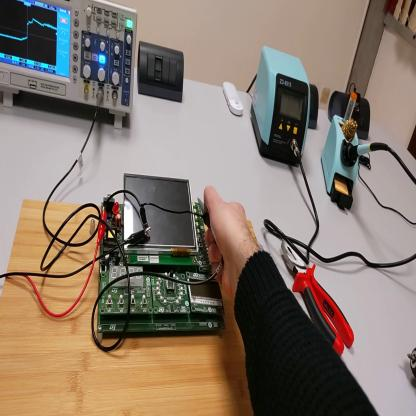electric screwdriver: (407, 343, 416, 382)
hand: (203, 185, 255, 296)
low voltage board: (95, 173, 227, 339)
oscilloscope probe tip: (199, 201, 210, 229)
pliers: (281, 238, 356, 356)
socket: (330, 95, 374, 134), (308, 84, 321, 133)
welder base: (321, 91, 361, 212)
welder probe tip: (349, 142, 384, 163)
welder station: (251, 46, 312, 171)
working area: (1, 197, 256, 414)
